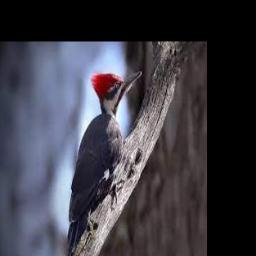Woodpecker: (66, 71, 141, 256)
